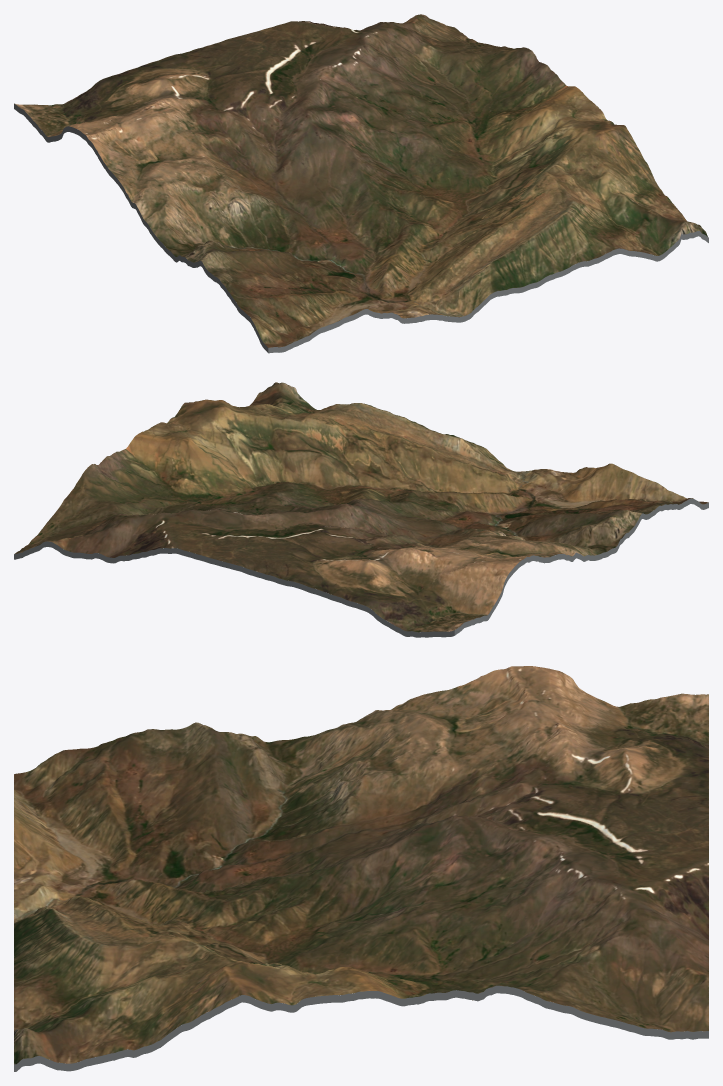
3 renders of one model, top to bottom at view 1: azimuth 30°, elevation 25°; view 2: azimuth 150°, elevation 25°; view 3: azimuth 270°, elevation 25°, orthographic. The views are drawn at different scales.
Visible parts, largest first — view 1: terrain, skirt; view 2: terrain, skirt; view 3: terrain, skirt.
Boxes of the visible parts, x1,y1,x2,y2 form: terrain: (14, 14, 707, 347); skirt: (14, 103, 708, 353); terrain: (15, 382, 708, 632); skirt: (14, 498, 708, 637); terrain: (14, 666, 708, 1064); skirt: (14, 985, 708, 1071).
Bounding box in the file's own units: 7500 × 1641 × 7500.
1 material, 1 textured.
